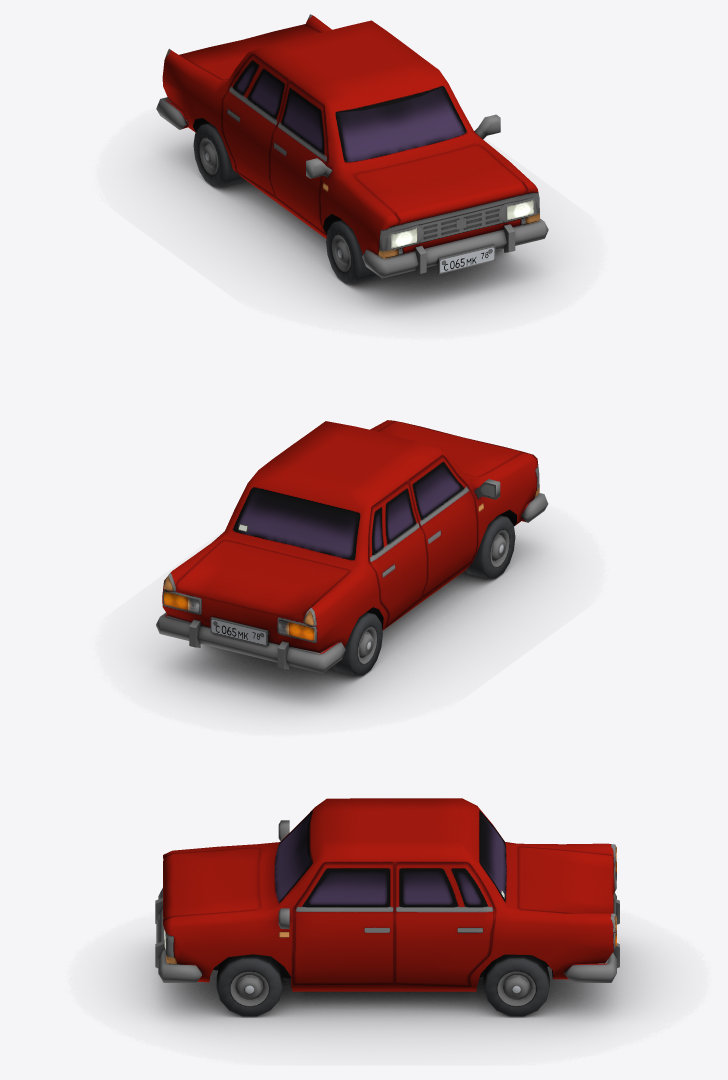
Rendered from moskvich_412.glb.
3 views of the same model, one above another, from view 1: azimuth 30°, elevation 25°; view 2: azimuth 150°, elevation 25°; view 3: azimuth 270°, elevation 25° (orthographic).
Visible parts, largest first — view 1: Object001_Material #233_0, Plane001; view 2: Object001_Material #233_0, Plane001; view 3: Object001_Material #233_0, Plane001.
Boxes of the visible parts, bbox=[...] form: Object001_Material #233_0: bbox=[156, 14, 548, 284]; Plane001: bbox=[158, 131, 546, 315]; Object001_Material #233_0: bbox=[156, 420, 548, 676]; Plane001: bbox=[157, 527, 546, 711]; Object001_Material #233_0: bbox=[155, 798, 619, 1016]; Plane001: bbox=[134, 942, 642, 1031].
Size of the model in its own units: 263 by 108 by 448.
Materials: 2 (2 with a texture image).
